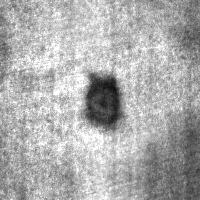patches: (75, 121, 200, 200), (37, 0, 117, 67), (131, 123, 200, 200), (85, 73, 120, 127)
